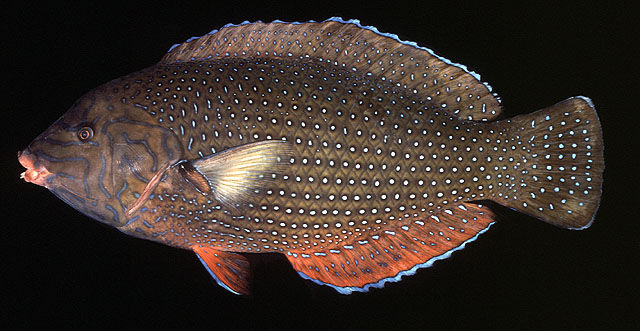fish: (19, 18, 607, 296)
